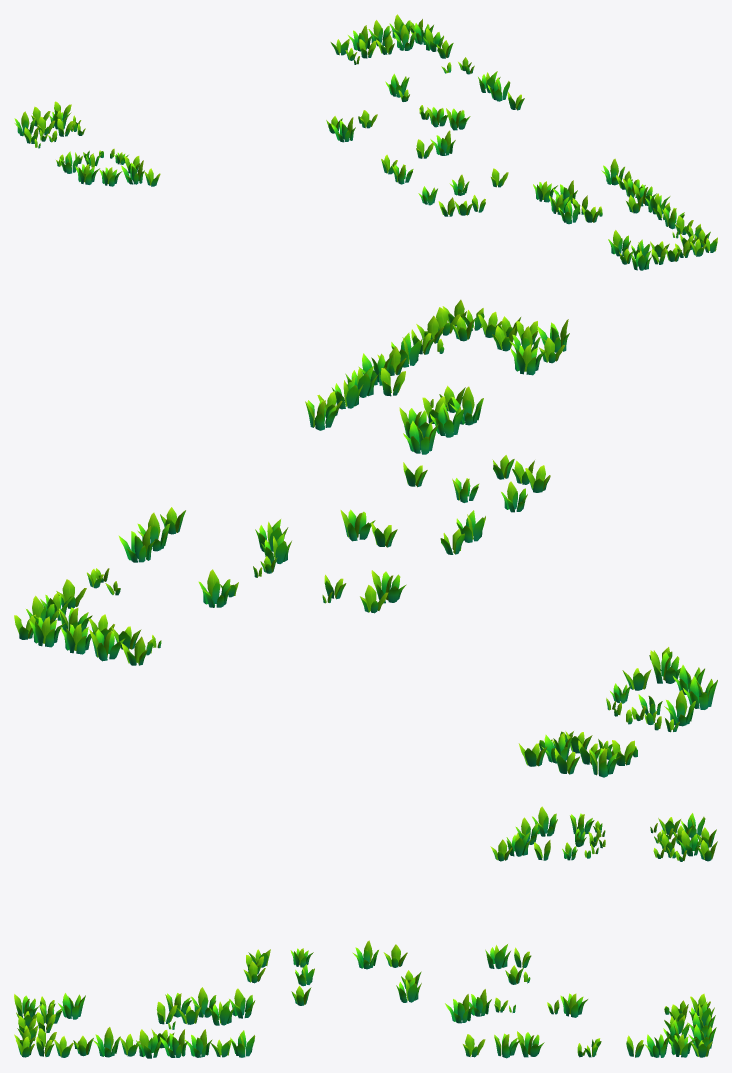
File: grass.obj
3 views of the same model, one above another, from view 1: azimuth 30°, elevation 25°; view 2: azimuth 150°, elevation 25°; view 3: azimuth 270°, elevation 25° (orthographic). The views are drawn at different scales.
Visible parts, largest first — view 1: Grass00__Grass00_AI; view 2: Grass00__Grass00_AI; view 3: Grass00__Grass00_AI.
Part boxes in pixels (x1,y1,x2,y2): Grass00__Grass00_AI: [14, 14, 717, 270]; Grass00__Grass00_AI: [14, 299, 717, 777]; Grass00__Grass00_AI: [14, 806, 717, 1058].
Size of the model in its own units: 19.12 by 0.8815 by 24.31.
Materials: 1 (1 with a texture image).
